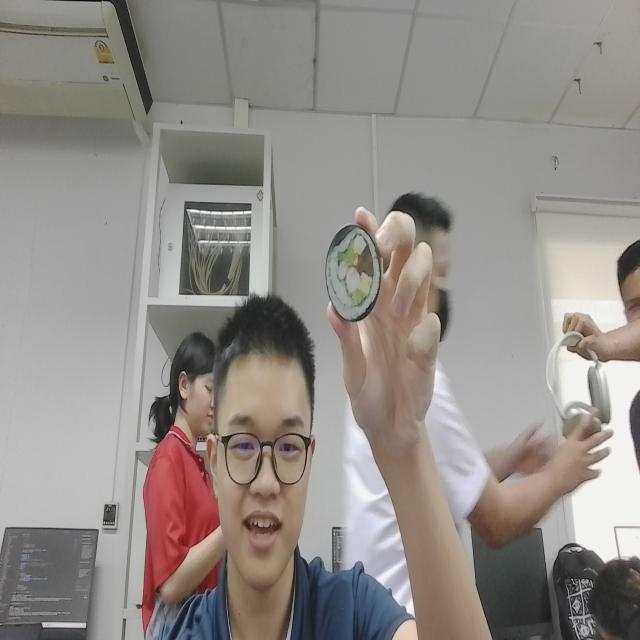sushi: (318, 218, 385, 338)
